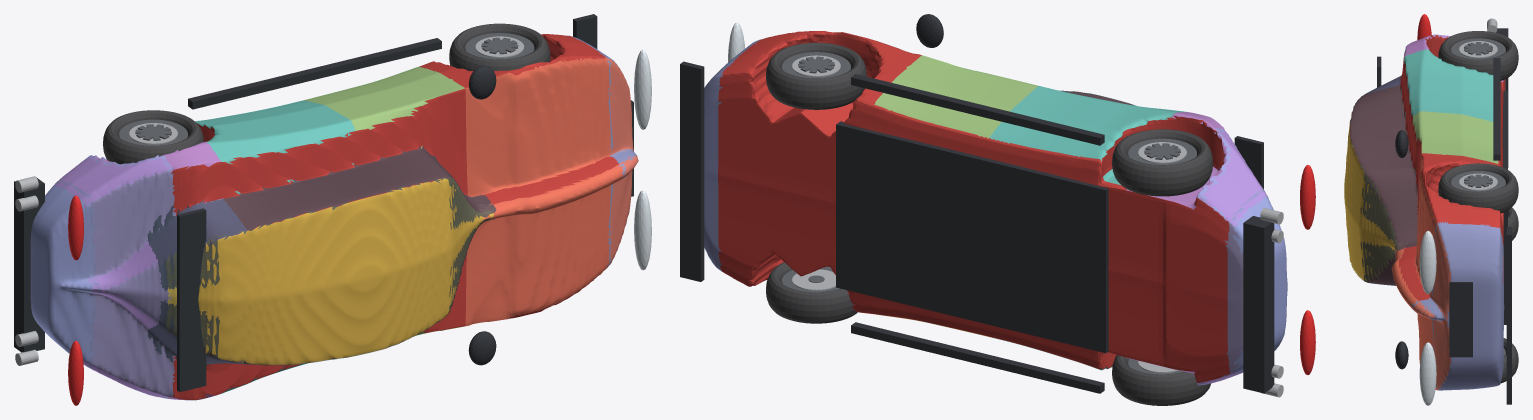
File: modern_car_v2_aero.glb
3 renders of one model, left to right at view 1: azimuth 30°, elevation 25°; view 2: azimuth 150°, elevation 25°; view 3: azimuth 270°, elevation 25°, orthographic. The views are drawn at different scales.
Parts seen in each view (by area): view 1: panel_roof, panel_hood, body, panel_rear_hatch, greenhouse_glass, panel_rear_quarter_right, panel_rear_door_right, panel_front_door_right, rear_spoiler, side_skirt_R, rear_diffuser, rear_R_tyre (+12 smaller); view 2: body, underbody, panel_rear_door_right, panel_front_door_right, rear_diffuser, front_splitter, rear_R_tyre, front_R_tyre, panel_rear_quarter_right, side_skirt_L, side_skirt_R, front_L_tyre (+11 smaller); view 3: body, greenhouse_glass, panel_front_bumper, panel_rear_door_right, panel_roof, panel_hood, panel_front_door_right, front_R_tyre, rear_R_tyre, front_grille, front_splitter, headlamp_R (+14 smaller).
Part boxes in pixels (box(x1,y1,x2,y2)): panel_roof: box(166, 178, 493, 364); panel_hood: box(465, 58, 638, 326); body: box(169, 34, 618, 399); panel_rear_hatch: box(30, 155, 176, 398); greenhouse_glass: box(147, 146, 496, 365); panel_rear_quarter_right: box(52, 141, 247, 289); panel_rear_door_right: box(195, 100, 355, 193); panel_front_door_right: box(303, 67, 464, 148); rear_spoiler: box(177, 208, 206, 391); side_skirt_R: box(188, 38, 441, 109); rear_diffuser: box(14, 177, 44, 352); rear_R_tyre: box(103, 110, 203, 164); body: box(718, 31, 1229, 382); underbody: box(836, 121, 1108, 353); panel_rear_door_right: box(989, 86, 1185, 184); panel_front_door_right: box(874, 55, 1038, 138); rear_diffuser: box(1243, 216, 1274, 393); front_splitter: box(680, 61, 704, 281); rear_R_tyre: box(1112, 129, 1213, 196); front_R_tyre: box(766, 42, 866, 109); panel_rear_quarter_right: box(1126, 112, 1268, 226); side_skirt_L: box(851, 322, 1104, 393); side_skirt_R: box(851, 74, 1104, 145); front_L_tyre: box(766, 262, 857, 323); body: box(1350, 35, 1505, 390); greenhouse_glass: box(1350, 75, 1417, 285); panel_front_bumper: box(1411, 221, 1504, 390); panel_rear_door_right: box(1401, 49, 1493, 139); panel_roof: box(1344, 107, 1398, 281); panel_hood: box(1391, 154, 1450, 389); panel_front_door_right: box(1412, 111, 1498, 202); front_R_tyre: box(1438, 163, 1518, 213); rear_R_tyre: box(1438, 31, 1518, 80); front_grille: box(1449, 281, 1472, 357); front_splitter: box(1506, 227, 1511, 404); headlamp_R: box(1419, 231, 1436, 294).
Size of the model in its own units: 4.48 by 2.16 by 1.44.
